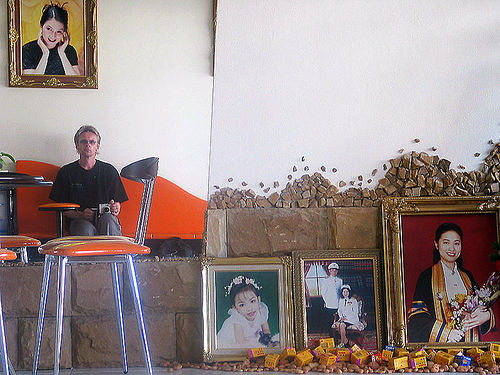without_mask: (231, 290, 261, 321), (434, 232, 462, 263), (40, 18, 66, 47), (74, 131, 101, 158), (329, 267, 339, 277), (342, 288, 350, 299)
